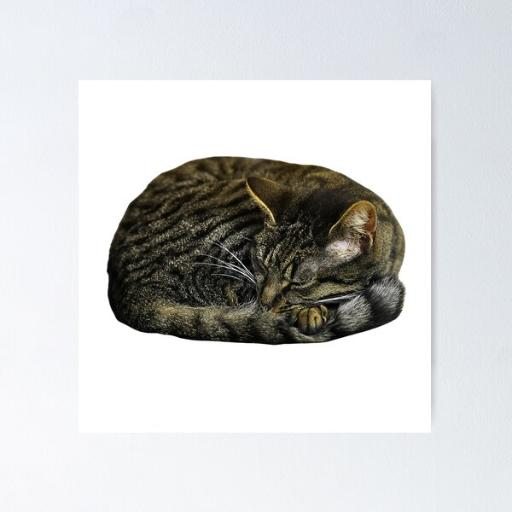cat_sleeping: (108, 157, 404, 341)
